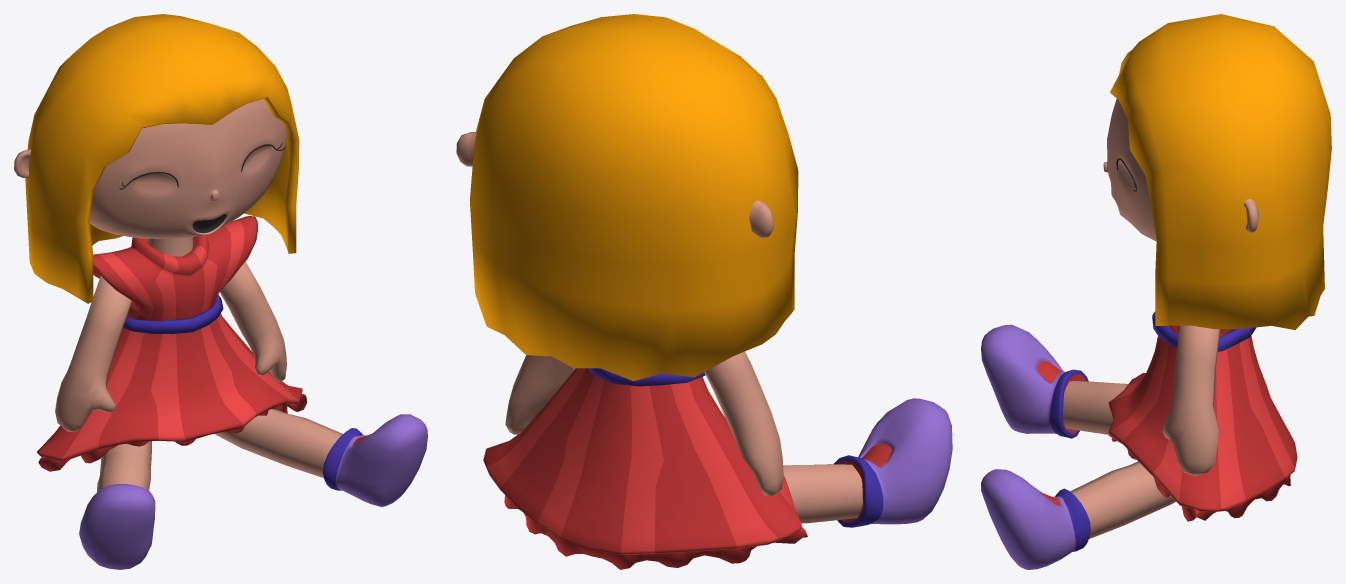
File: Seated_Doll.fbx
3 renders of one model, left to right at view 1: azimuth 30°, elevation 25°; view 2: azimuth 150°, elevation 25°; view 3: azimuth 270°, elevation 25°, orthographic. The views are drawn at different scales.
Visible parts, largest first — view 1: Seated_Doll; view 2: Seated_Doll; view 3: Seated_Doll.
Boxes of the visible parts, bbox=[...] form: Seated_Doll: bbox=[14, 14, 427, 569]; Seated_Doll: bbox=[456, 14, 952, 569]; Seated_Doll: bbox=[981, 14, 1331, 569].
Size of the model in its own units: 31.02 by 38.71 by 26.27.
